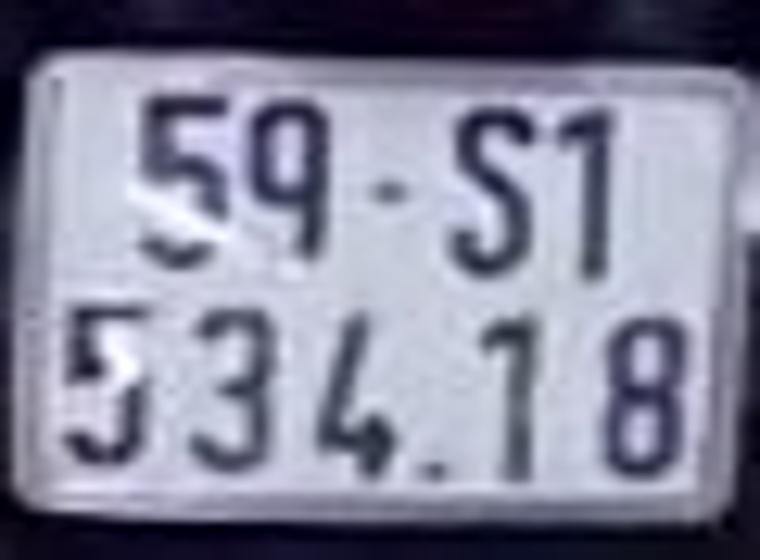-: (360, 165, 414, 218)
.: (413, 455, 452, 491)
1: (476, 303, 545, 487), (554, 103, 617, 293)
3: (186, 299, 278, 480)
4: (316, 307, 403, 487)
5: (133, 85, 232, 272), (64, 296, 158, 470)
8: (601, 310, 693, 482)
9: (249, 93, 331, 279)
S: (447, 103, 535, 282)
